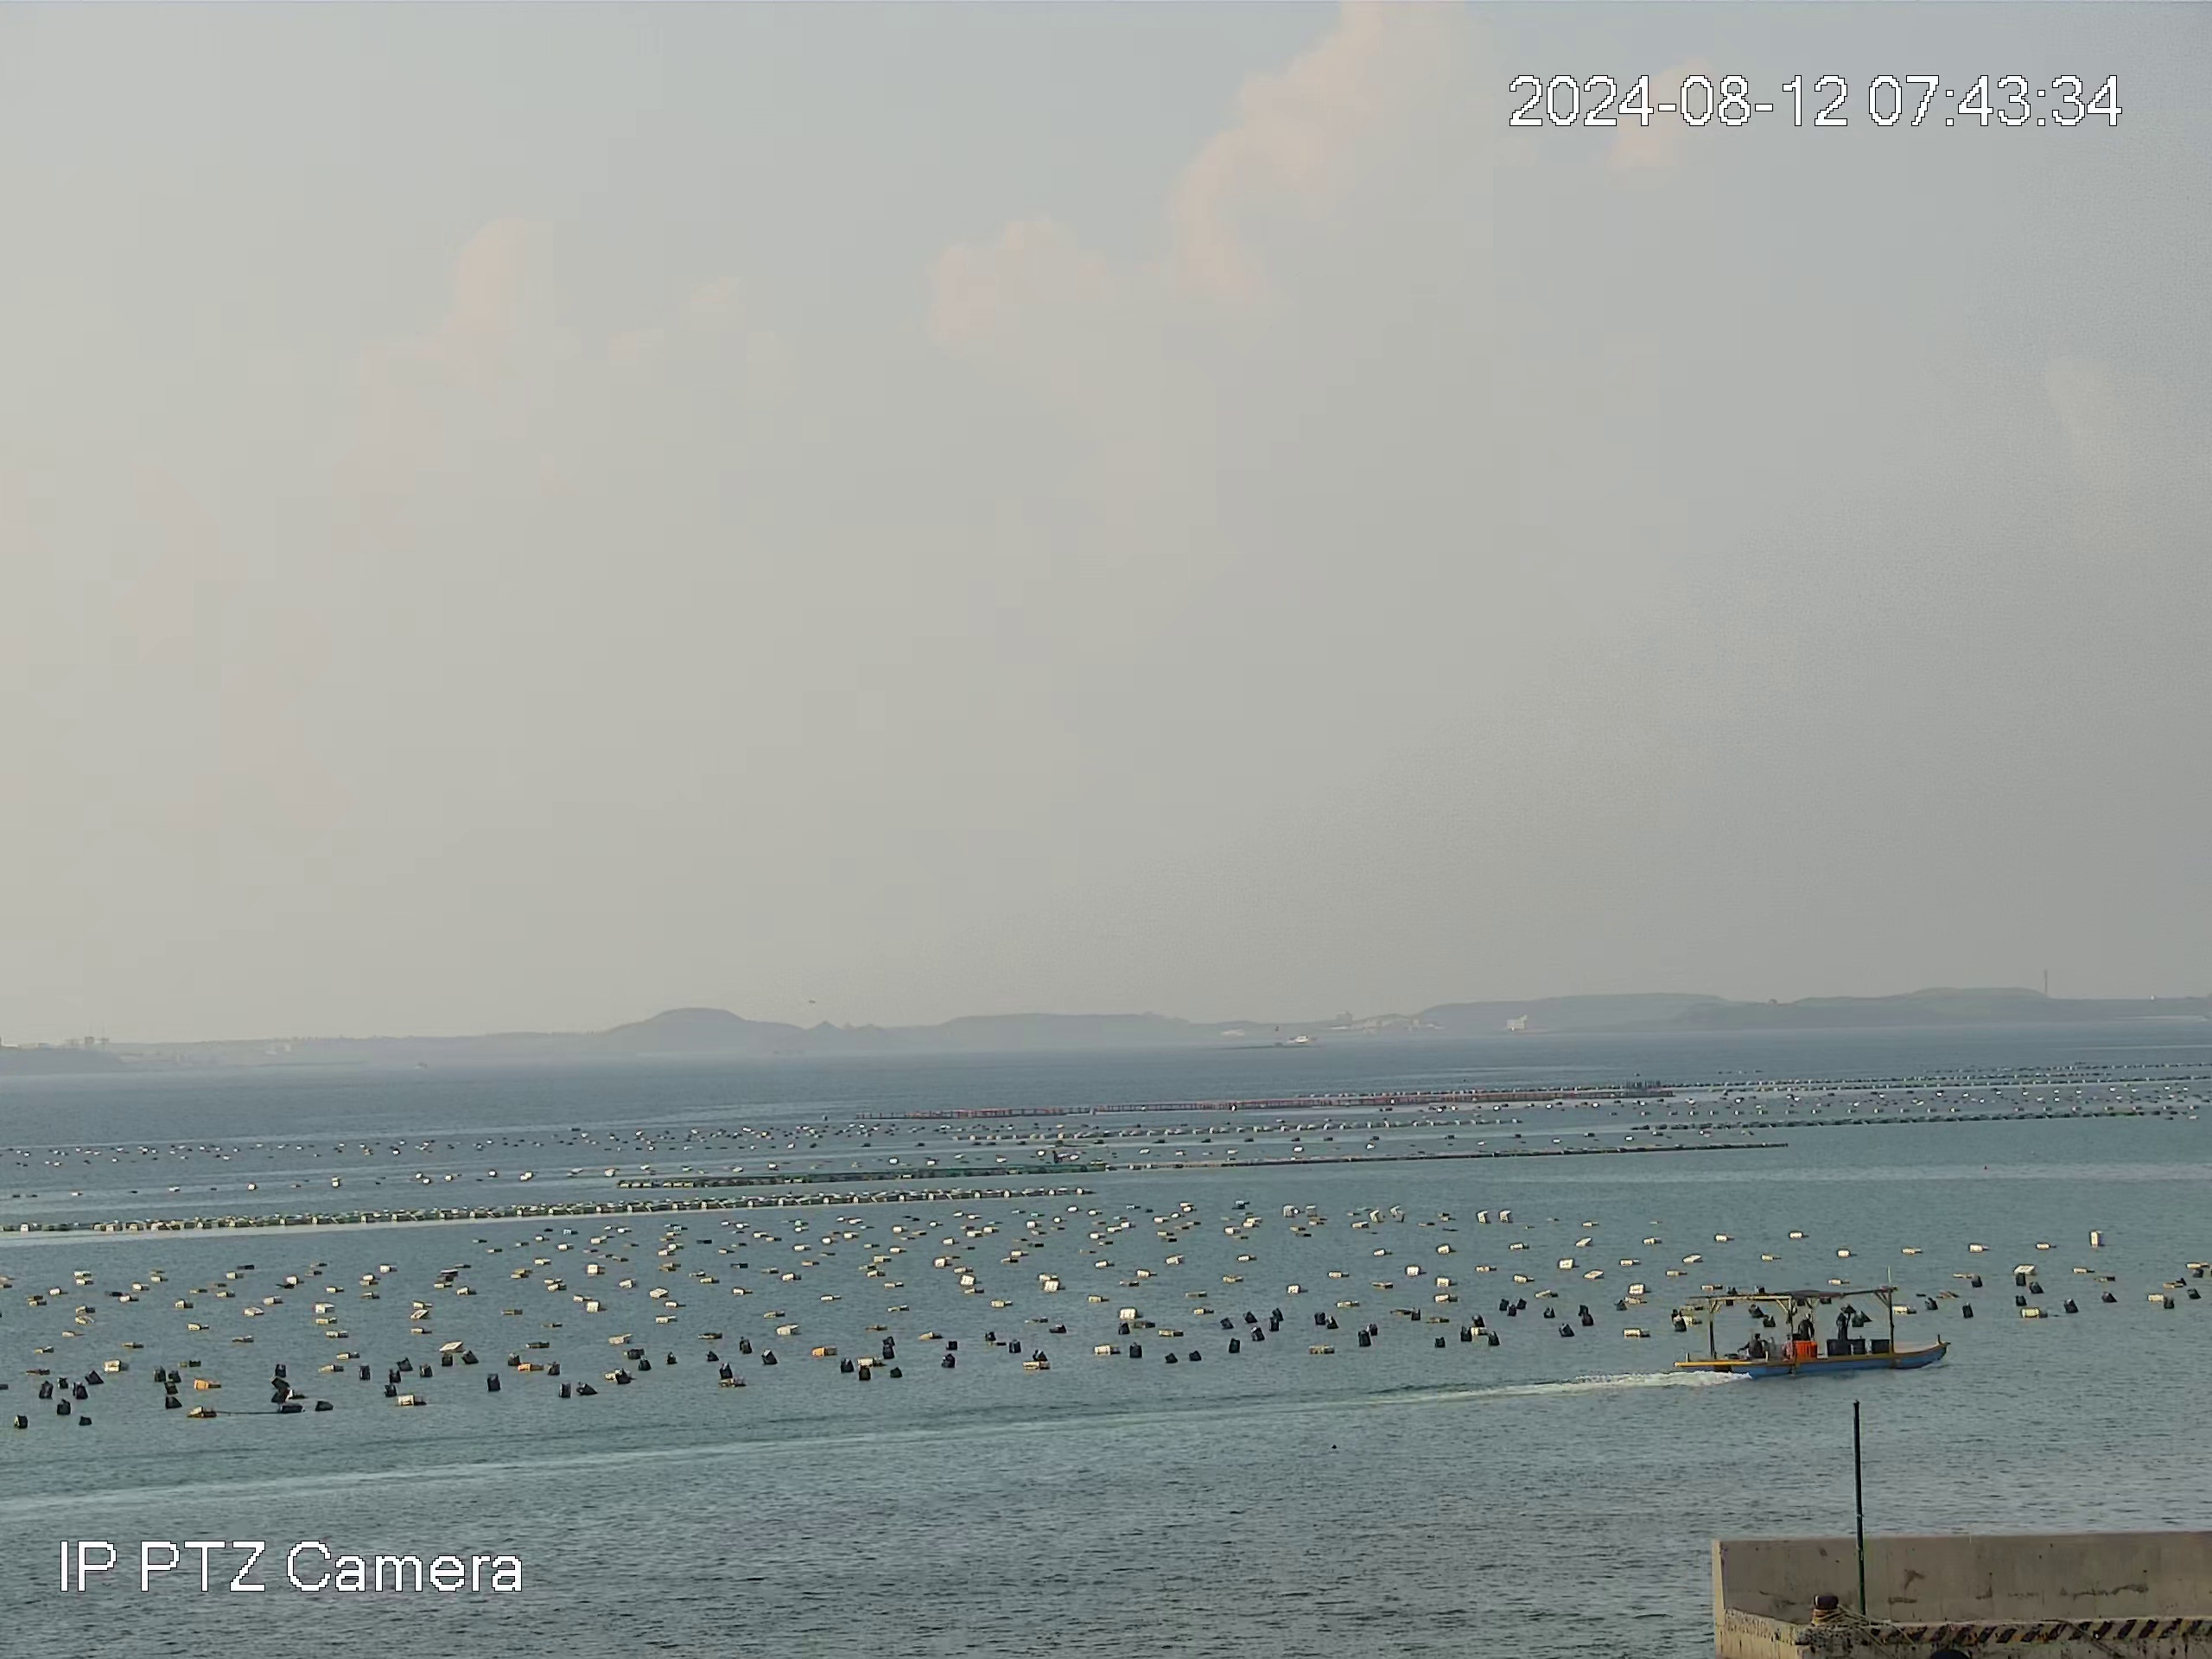boat: (1669, 1282, 1952, 1380)
